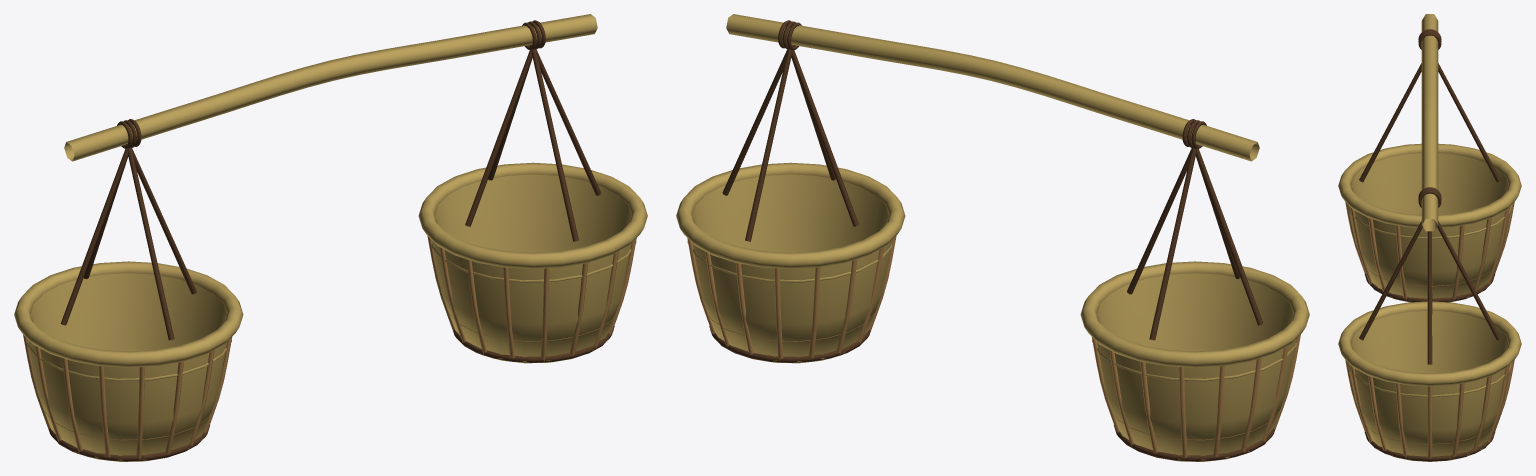
Rendered from LV_GANH_TRE_01.glb.
The picture shows the model from 3 angles, left to right: view 1: azimuth 30°, elevation 25°; view 2: azimuth 150°, elevation 25°; view 3: azimuth 270°, elevation 25°; orthographic projection. The views are drawn at different scales.
Visible parts, largest first — view 1: LV_GANH_TRE_01-surface-b59b56, LV_GANH_TRE_01-surface-50351f, LV_GANH_TRE_01-surface-b68850; view 2: LV_GANH_TRE_01-surface-b59b56, LV_GANH_TRE_01-surface-50351f, LV_GANH_TRE_01-surface-b68850; view 3: LV_GANH_TRE_01-surface-b59b56, LV_GANH_TRE_01-surface-b68850, LV_GANH_TRE_01-surface-50351f.
Part boxes in pixels (<box>): LV_GANH_TRE_01-surface-b59b56: <box>14,14,647,461</box>; LV_GANH_TRE_01-surface-50351f: <box>49,20,614,461</box>; LV_GANH_TRE_01-surface-b68850: <box>23,236,636,459</box>; LV_GANH_TRE_01-surface-b59b56: <box>676,14,1309,461</box>; LV_GANH_TRE_01-surface-50351f: <box>709,20,1274,461</box>; LV_GANH_TRE_01-surface-b68850: <box>687,236,1300,459</box>; LV_GANH_TRE_01-surface-b59b56: <box>1338,14,1521,461</box>; LV_GANH_TRE_01-surface-b68850: <box>1345,201,1514,458</box>; LV_GANH_TRE_01-surface-50351f: <box>1359,29,1500,461</box>.
Size of the model in its own units: 2.03 by 1.02 by 0.668.
